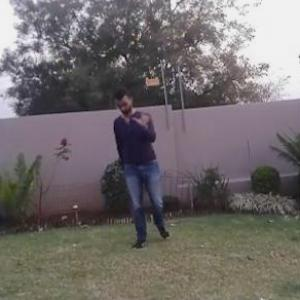follow_hand: (132, 105, 154, 130)
